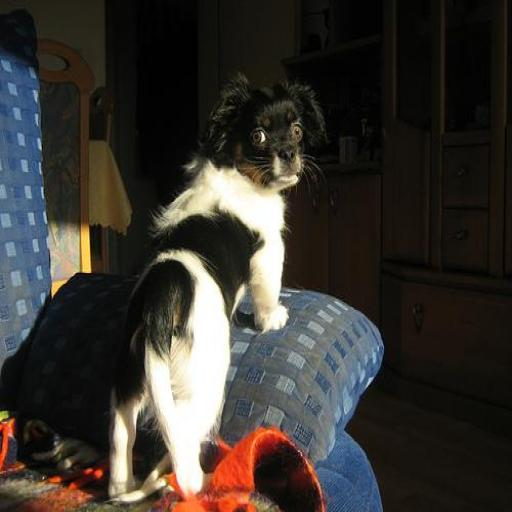dog_face: (208, 72, 338, 194)
